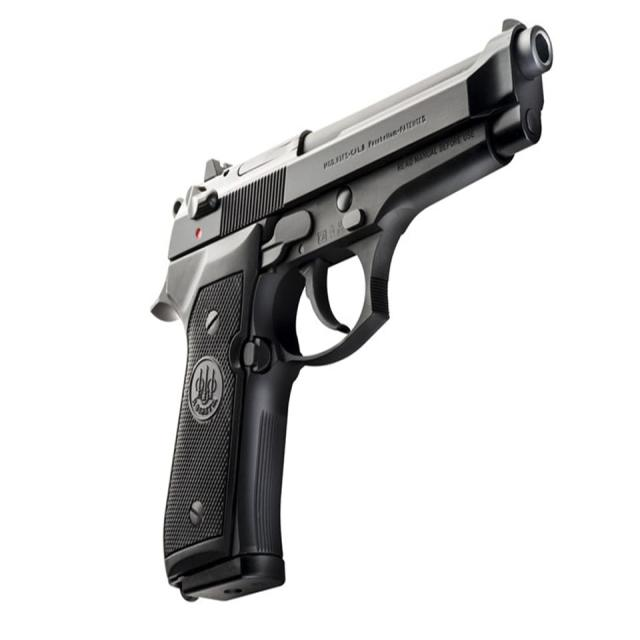Gun: (92, 16, 566, 606)
